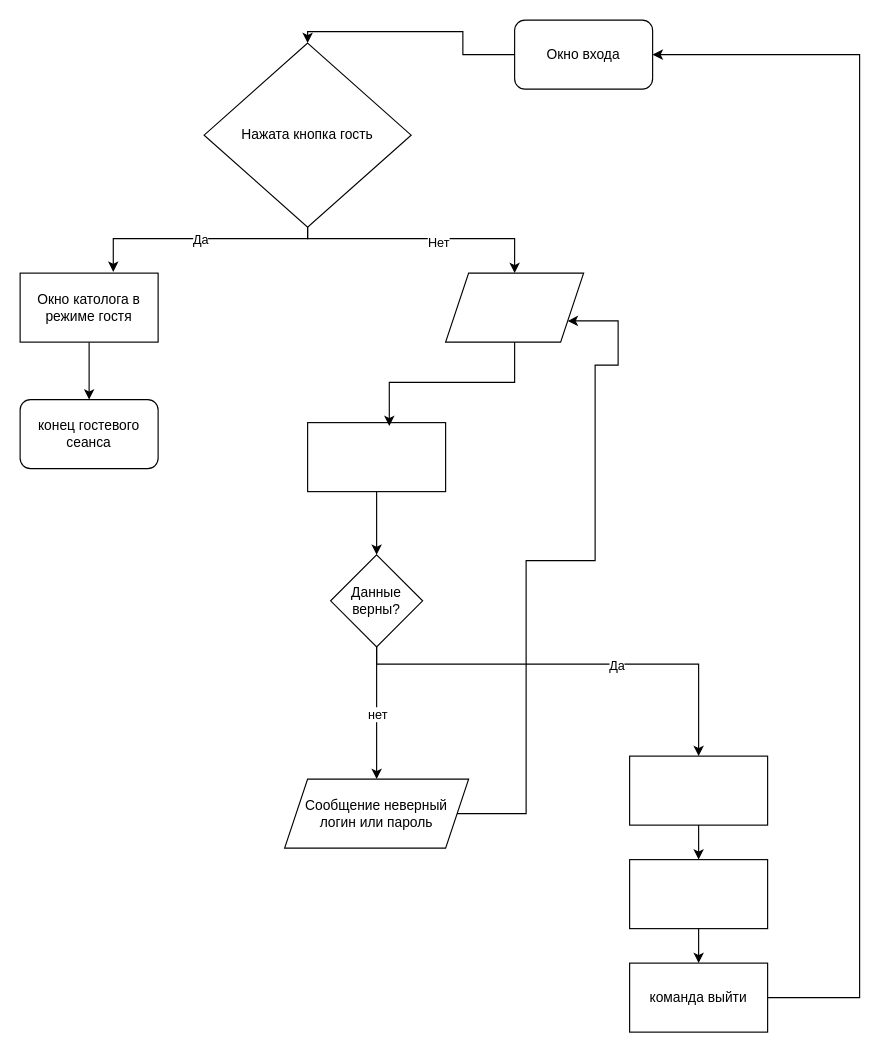
Image size: 889x1052. Some labels were removed from this diagram. The shapes that lost their labels are listed below. From the top down, each one's centre as x and y in pixels, then its label:
[514,307]: логин и пароль
[376,456]: НАйти пользоваеля в БДи сверить пароль
[698,790]: Определить роль и ФИО
[698,893]: открыть католог с правами и роли
